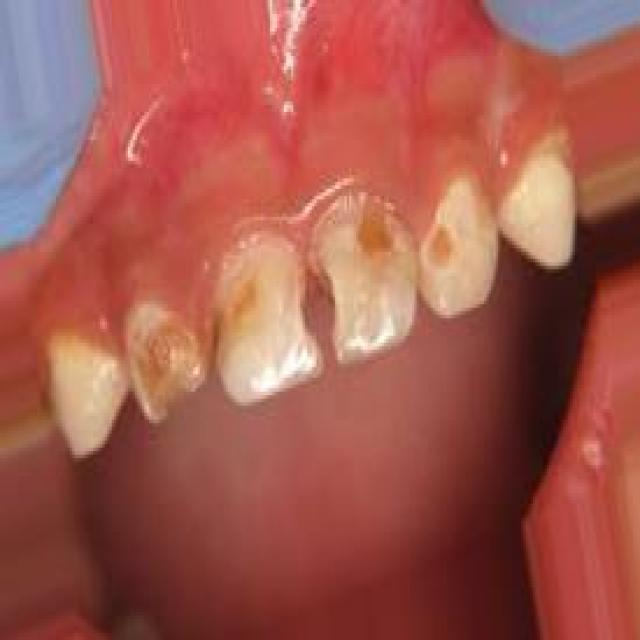caries: (209, 237, 316, 409), (314, 192, 416, 359), (126, 302, 210, 428), (418, 195, 471, 290), (520, 110, 583, 189)
